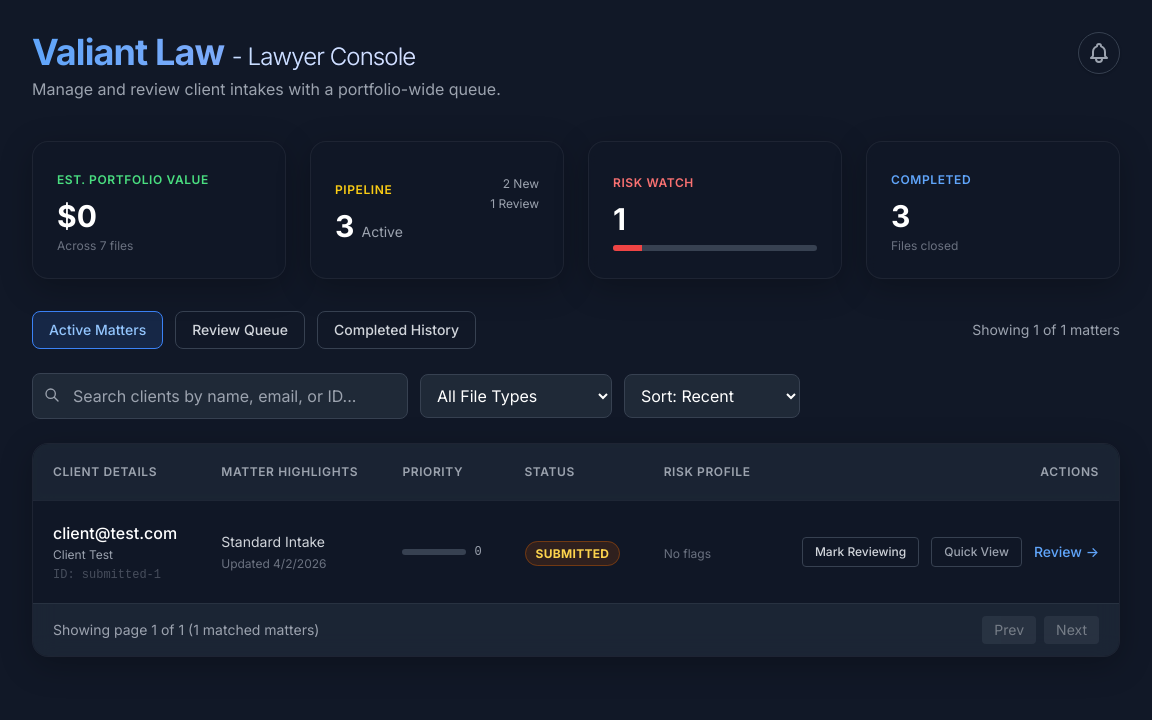
Test: LawyerDashboard › refreshes the queue after a row-scoped status update
Click the button "Mark Reviewing".
click(861, 552)  # box 802,537 -> 919,567
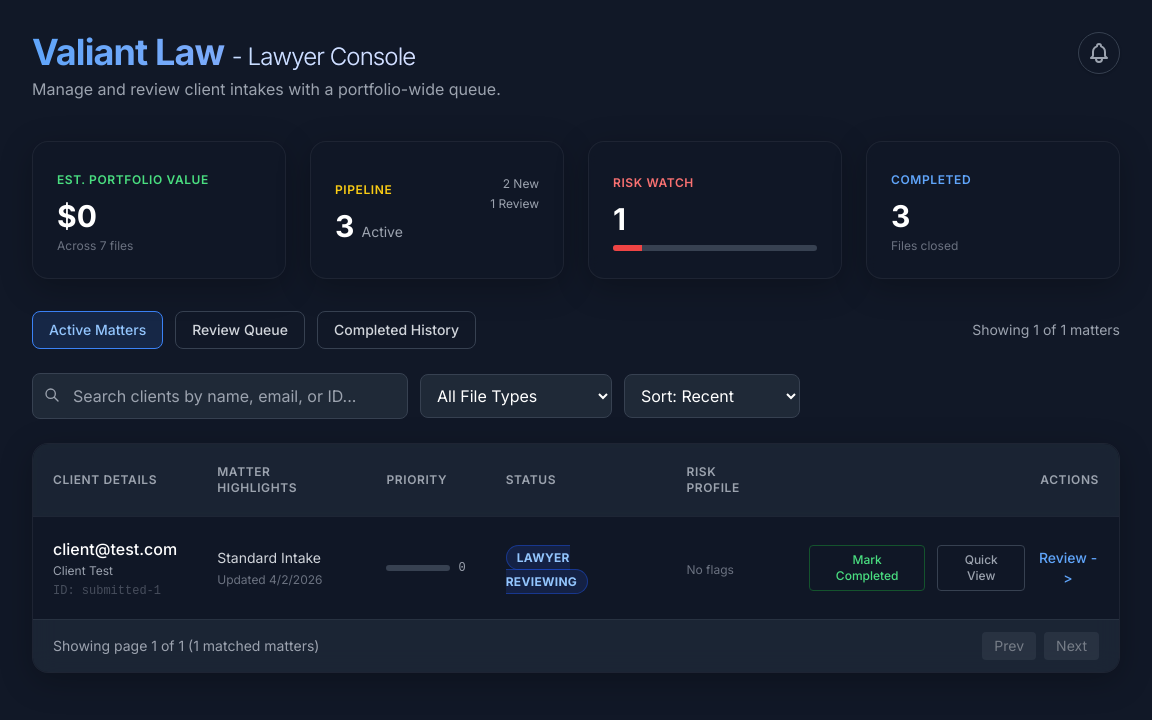
Now the text "Lawyer Reviewing" is shown, box 506,545 -> 588,594
